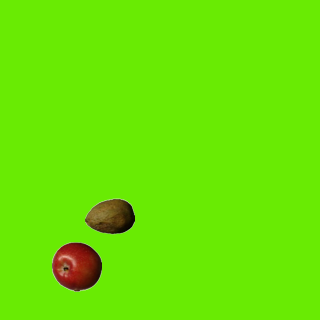Apple Braeburn: (51, 241, 101, 291)
Papaya: (84, 191, 134, 241)
